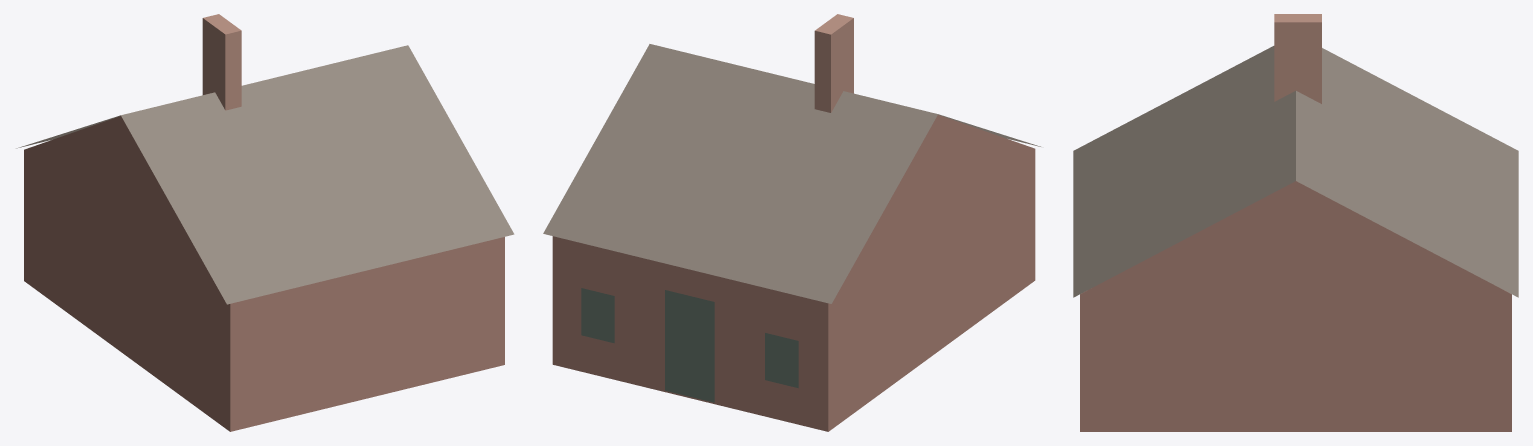
File: recon_1835_north_d4_025__recommended_1835.glb
3 views of the same model, side by side, from view 1: azimuth 30°, elevation 25°; view 2: azimuth 150°, elevation 25°; view 3: azimuth 270°, elevation 25° (orthographic). The views are drawn at different scales.
Parts seen in each view (by area): view 1: recon_1835_north_d4_025__recommended_1835; view 2: recon_1835_north_d4_025__recommended_1835; view 3: recon_1835_north_d4_025__recommended_1835.
Part boxes in pixels (bbox=[...]): recon_1835_north_d4_025__recommended_1835: bbox=[16, 14, 514, 431]; recon_1835_north_d4_025__recommended_1835: bbox=[543, 14, 1040, 431]; recon_1835_north_d4_025__recommended_1835: bbox=[1073, 14, 1518, 431].
Size of the model in its own units: 6.38 by 6.53 by 8.17.
